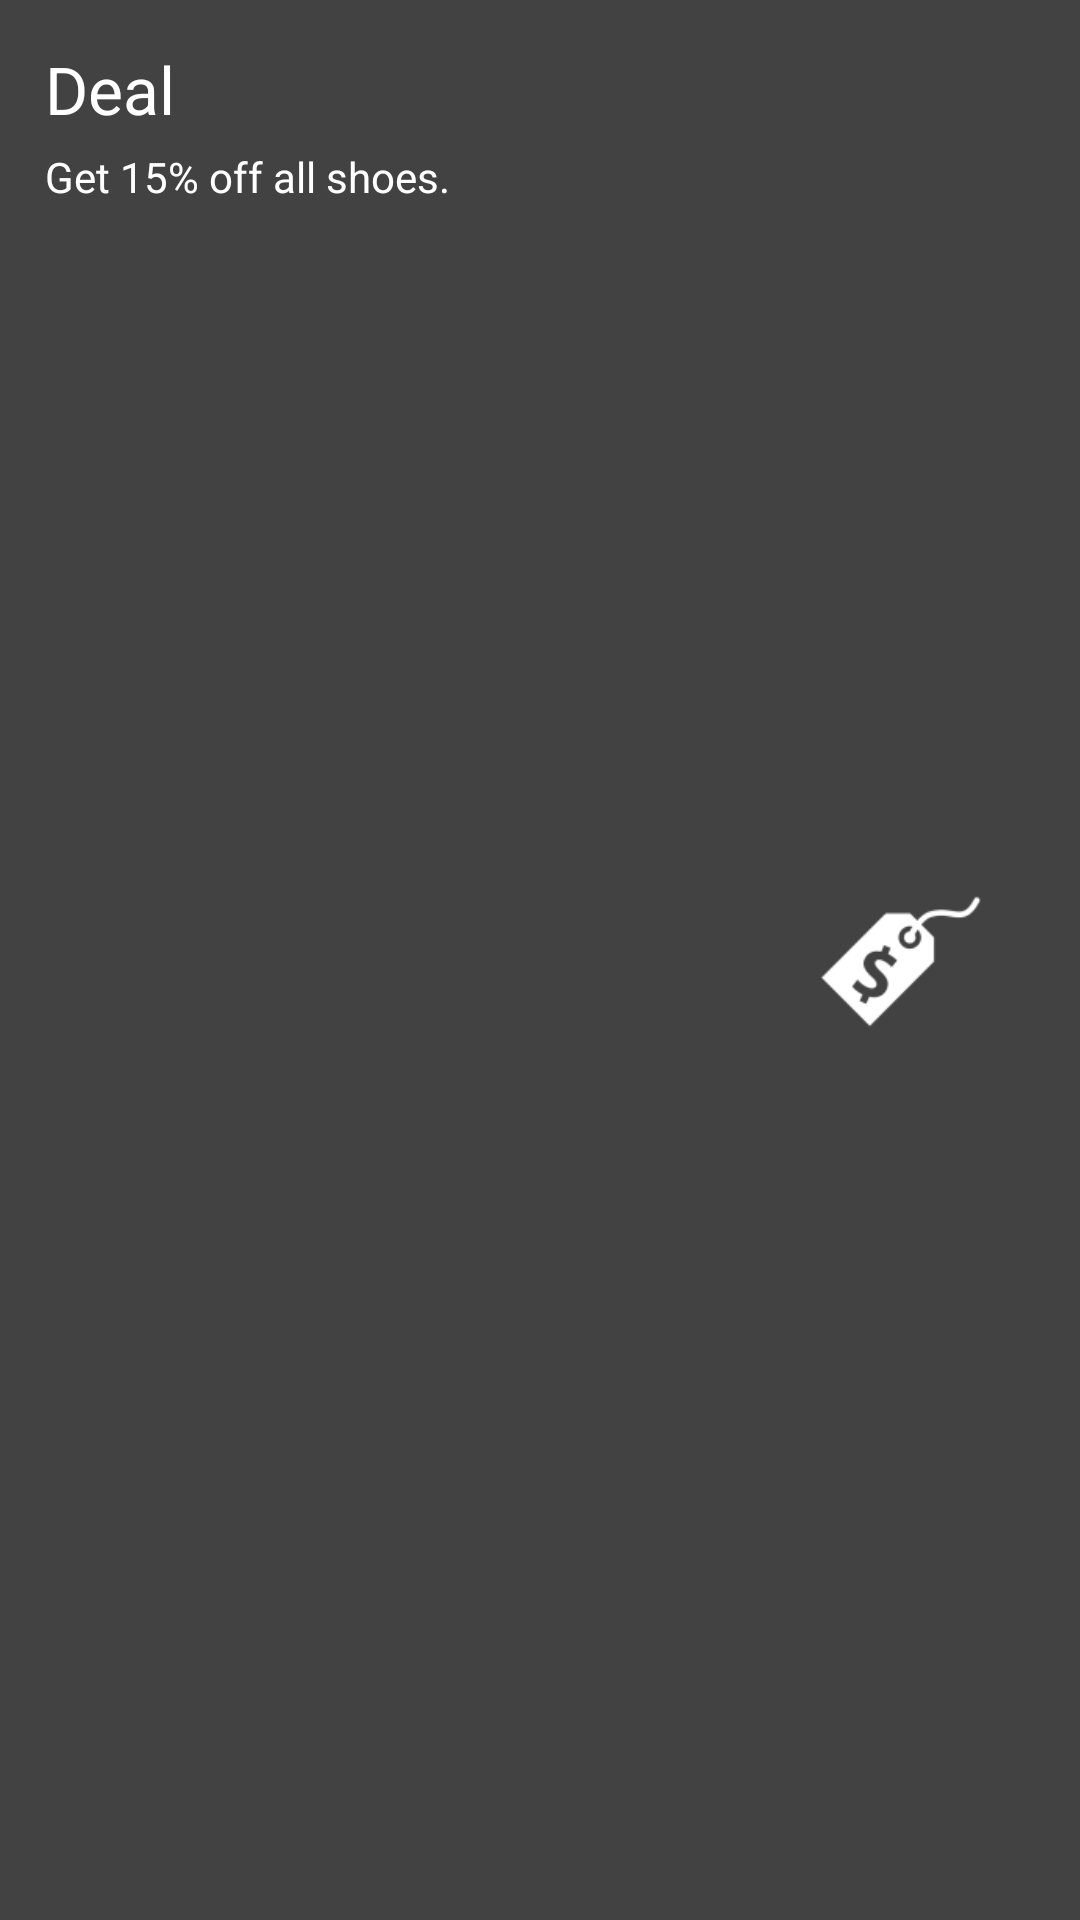

Screen size 1080w x 1920h. Icon name, then its box in pixels as (x1, y1, x2, y2):
price tag: (821, 897, 981, 1026)
